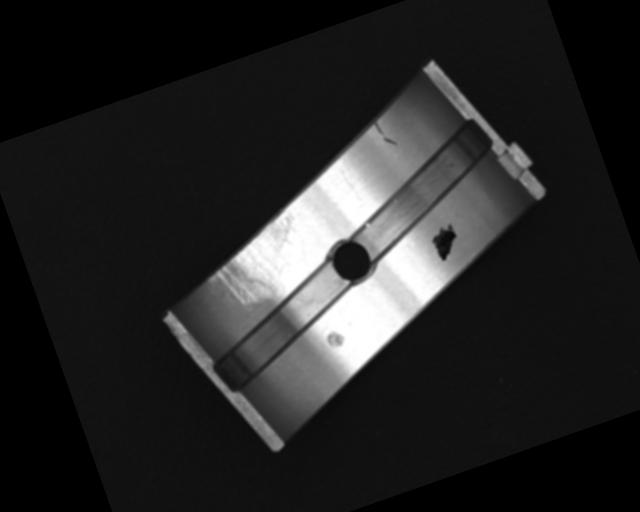blot: (426, 220, 464, 263)
bruise: (324, 327, 346, 350)
gap: (332, 118, 517, 266), (192, 257, 372, 397)
hole: (324, 229, 380, 290)
nick: (338, 166, 362, 205), (372, 115, 397, 149)
scratch: (192, 206, 317, 317)
